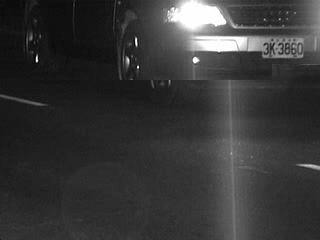plate: (260, 37, 304, 57)
